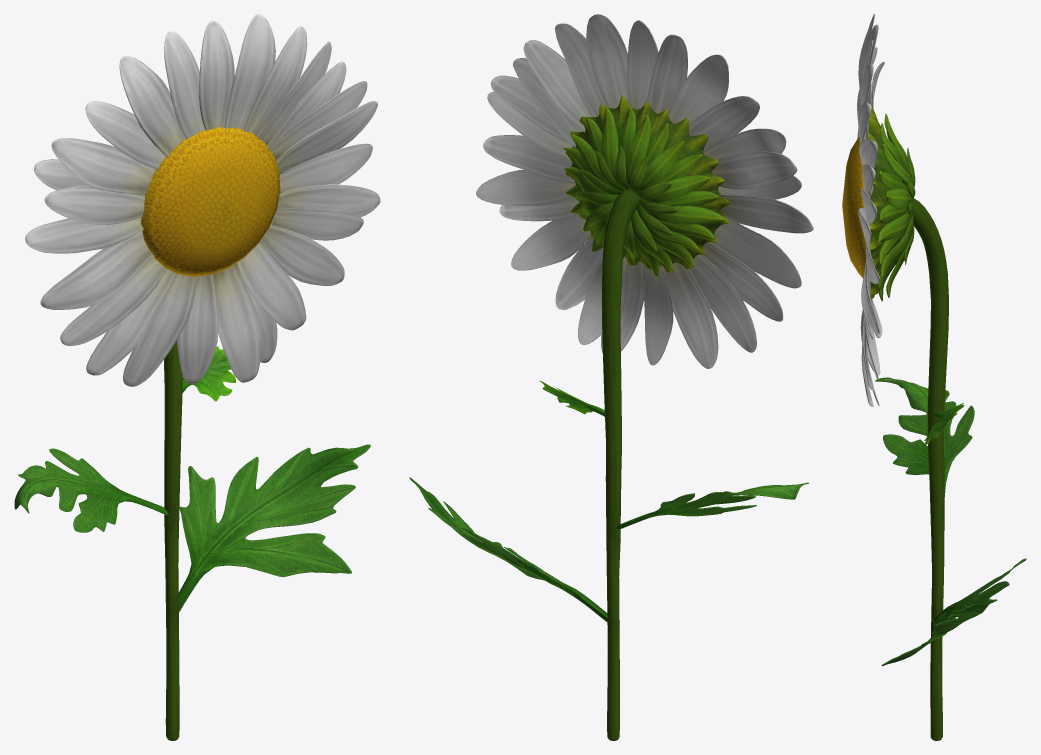
File: margarita.glb
3 views of the same model, side by side, from view 1: azimuth 30°, elevation 25°; view 2: azimuth 150°, elevation 25°; view 3: azimuth 270°, elevation 25° (orthographic). The views are drawn at different scales.
Parts seen in each view (by area): view 1: node_id30; view 2: node_id30; view 3: node_id30.
Part boxes in pixels (<box>): node_id30: <box>14,14,380,740</box>; node_id30: <box>409,14,813,740</box>; node_id30: <box>842,14,1026,740</box>.
Size of the model in its own units: 0.2804 by 0.512 by 0.1221.
Materials: 1 (1 with a texture image).
